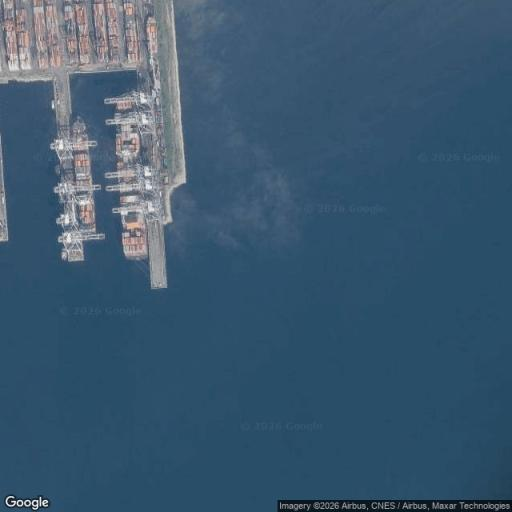ship: (114, 91, 148, 261), (72, 116, 95, 233)
